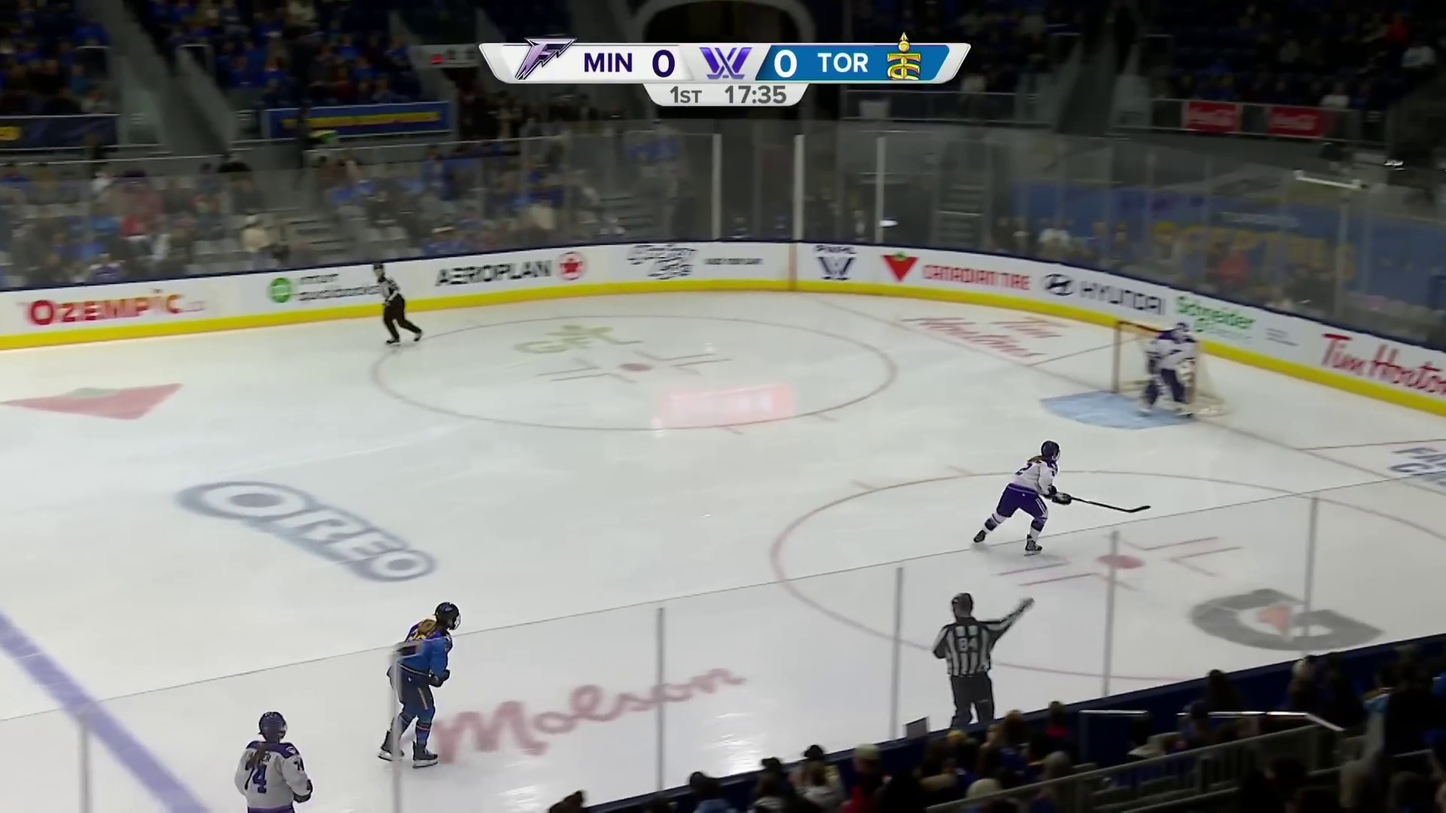goalkeeper: (1139, 320, 1197, 417)
player: (380, 599, 465, 766), (974, 439, 1074, 557), (235, 709, 314, 812)
referee: (932, 590, 1033, 726), (373, 261, 424, 346)
